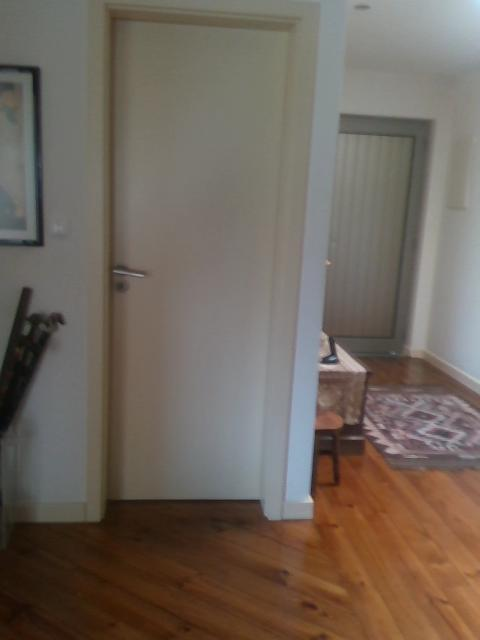door: (106, 17, 288, 501), (325, 114, 432, 351)
